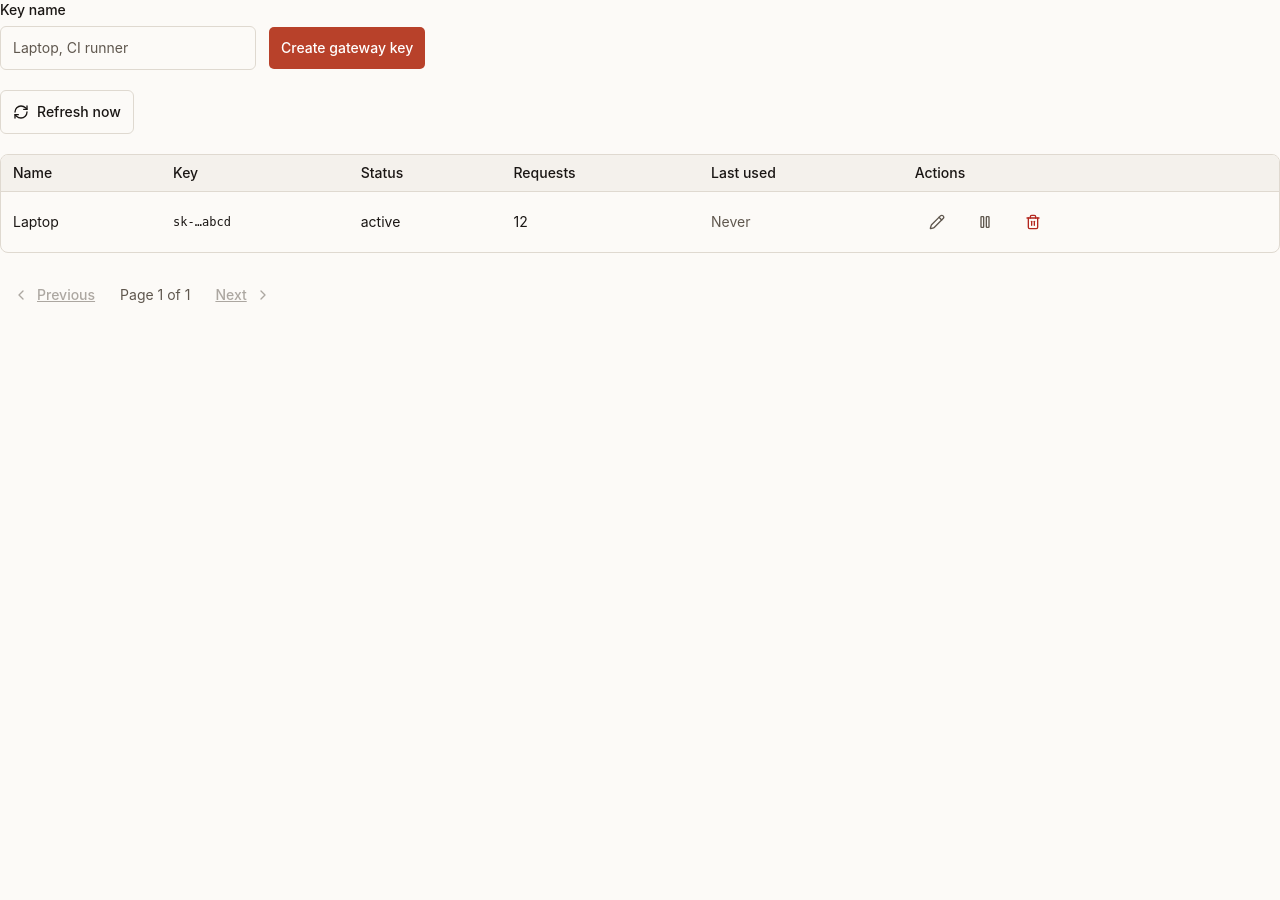
gateway keys tab › shows a new key once, and will not let it be dismissed before it is acknowledged
This screenshot has width=1280, height=900.
Expected: the table is shown, [1,155,1279,252]
Type "CI runner" into the field labelled "Key name" at (128, 48), box [0,26,256,70]
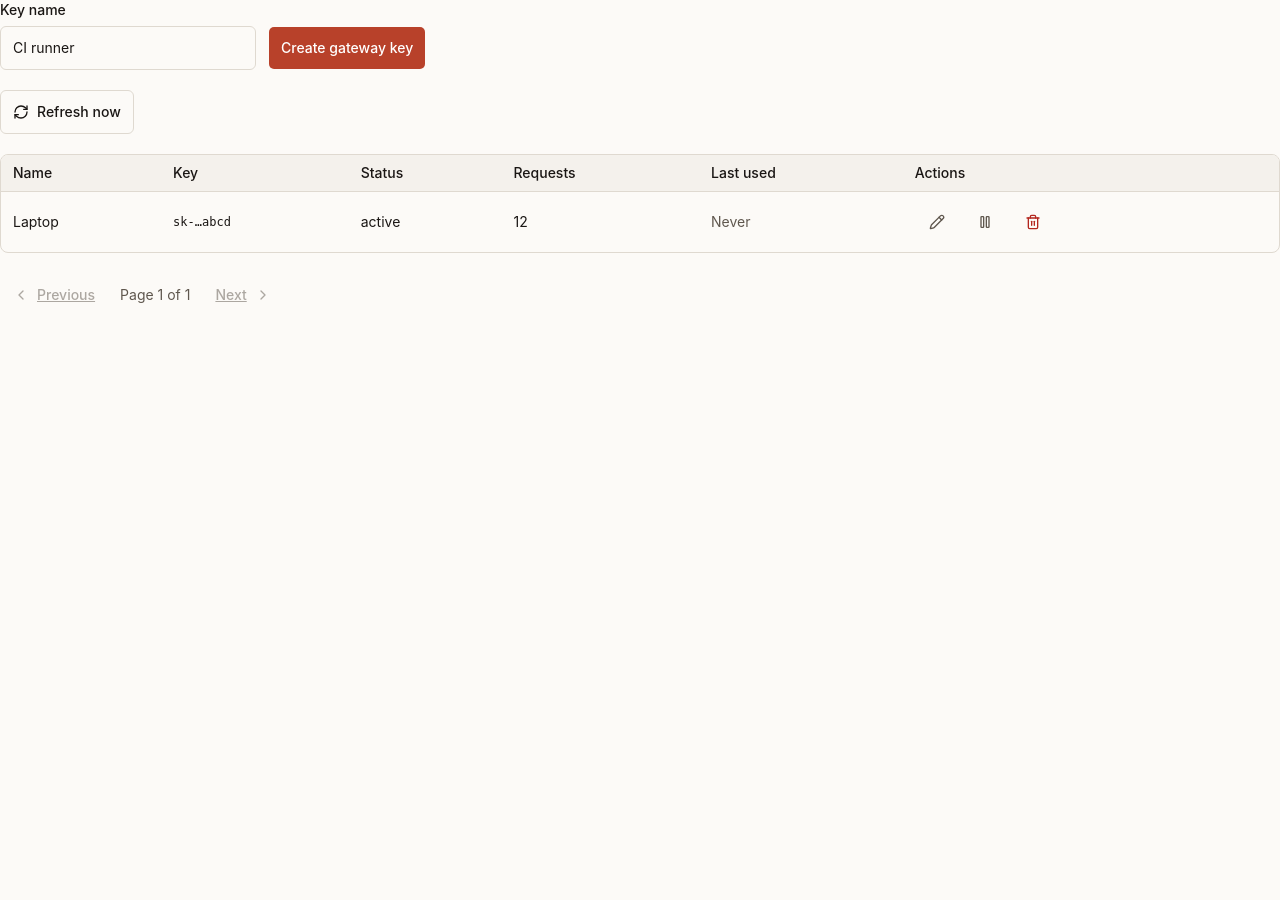
Submit the form "Create gateway key", box [0,1,426,70]
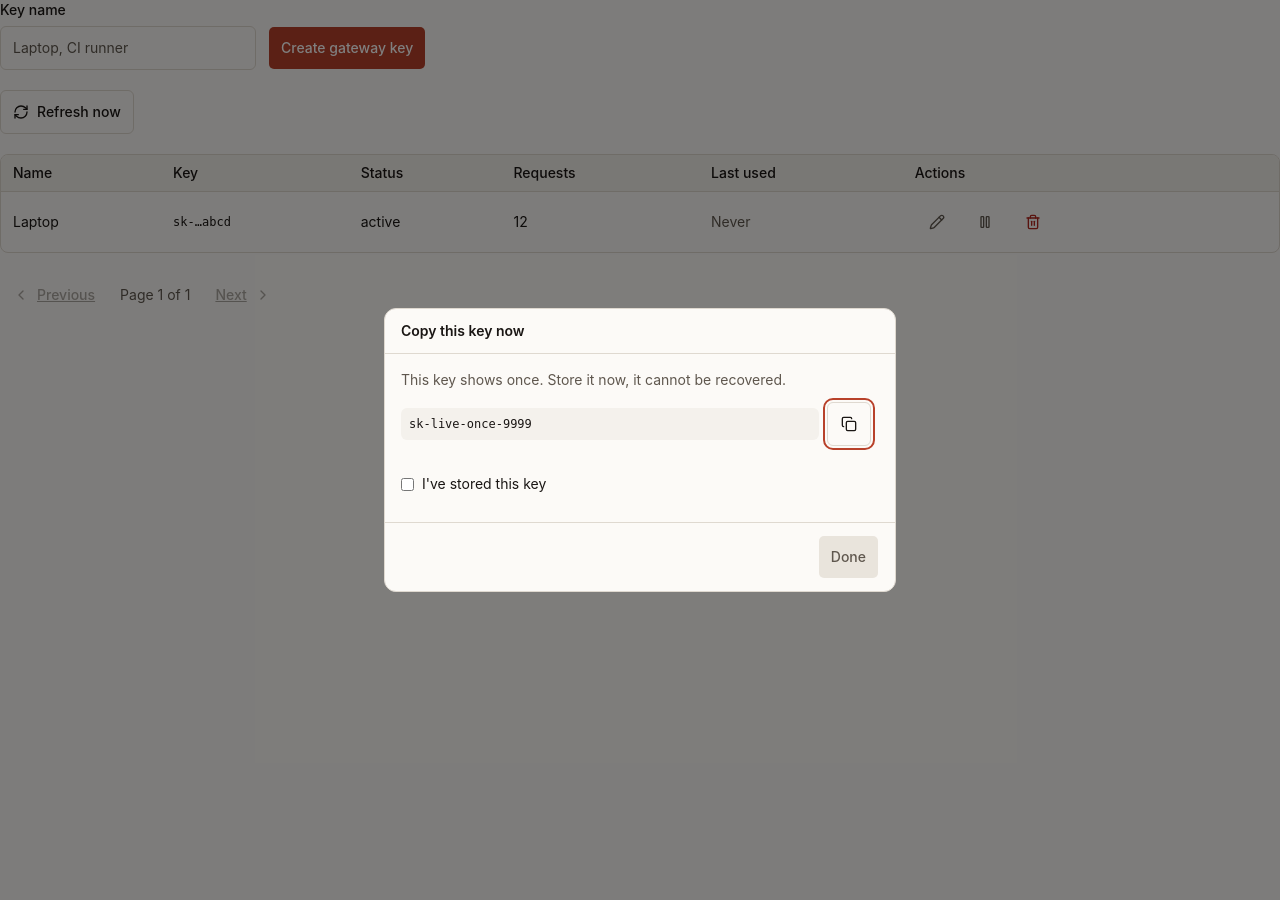
Now the text "sk-live-once-9999" is shown, box [401,408,819,440]
Now the text "This key shows once. Store it now, it cannot be recovered." is shown, box [401,371,786,388]
Now the button "Done" is disabled, box [818,535,879,579]
Click the checkbox at (408, 484), box [401,478,414,490]
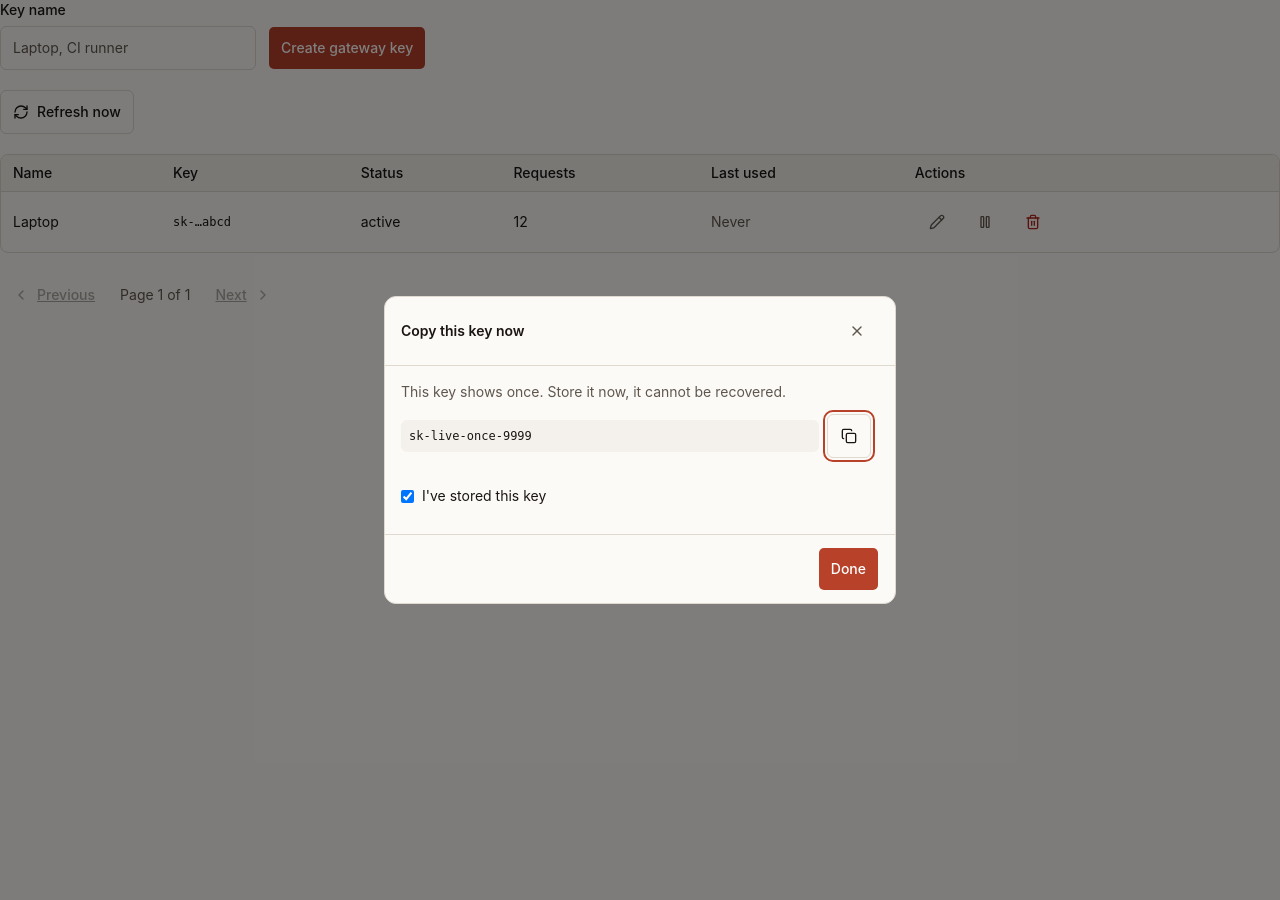
Now the button "Done" is enabled
Click the button "Done" at (848, 569), box [818,547,879,591]
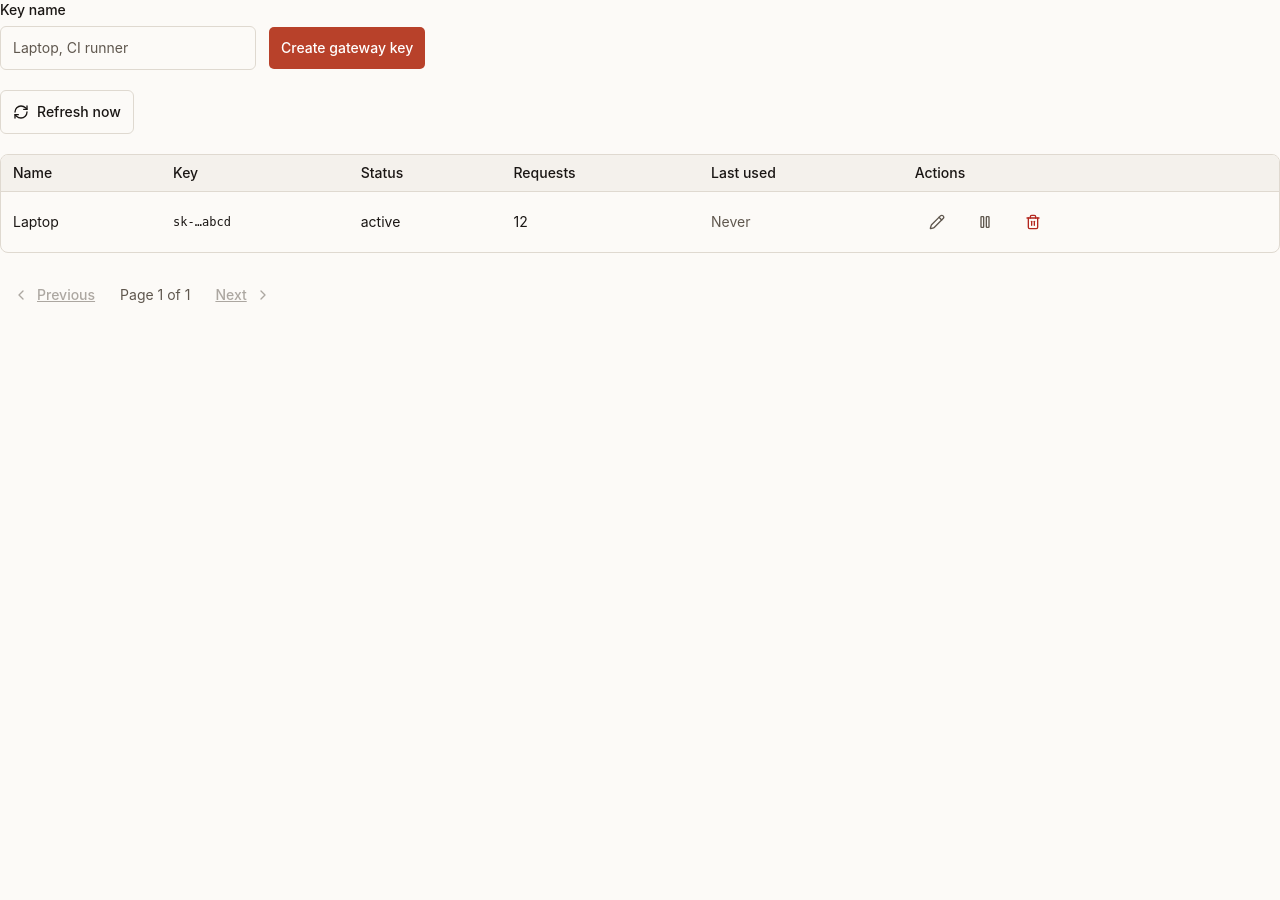
Now the text "sk-live-once-9999" is gone
